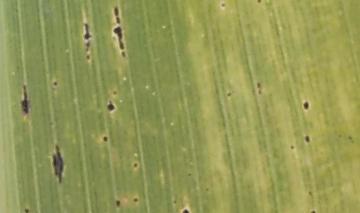tarspot: (49, 143, 65, 184), (19, 83, 31, 115), (112, 25, 125, 49), (82, 22, 93, 41), (105, 98, 116, 112), (302, 133, 312, 144), (301, 100, 310, 112), (83, 42, 91, 54), (113, 5, 120, 18), (224, 90, 233, 99), (307, 190, 315, 200), (119, 50, 126, 60), (180, 207, 191, 213), (110, 89, 118, 97), (219, 1, 226, 10), (102, 134, 109, 143), (114, 16, 121, 25), (131, 197, 140, 204), (115, 199, 121, 209), (288, 143, 295, 151), (51, 81, 59, 88), (186, 170, 192, 178), (255, 81, 261, 89), (132, 162, 138, 169), (85, 54, 91, 61), (23, 207, 30, 213), (171, 198, 177, 205), (204, 186, 210, 193), (345, 134, 352, 140), (257, 88, 262, 96), (307, 209, 315, 213), (255, 1, 262, 4)
